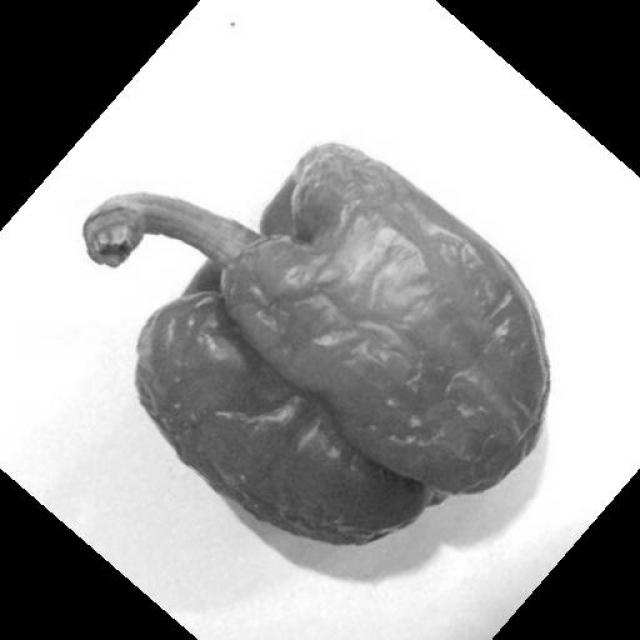Stale_Capsicum: (120, 131, 540, 536)
